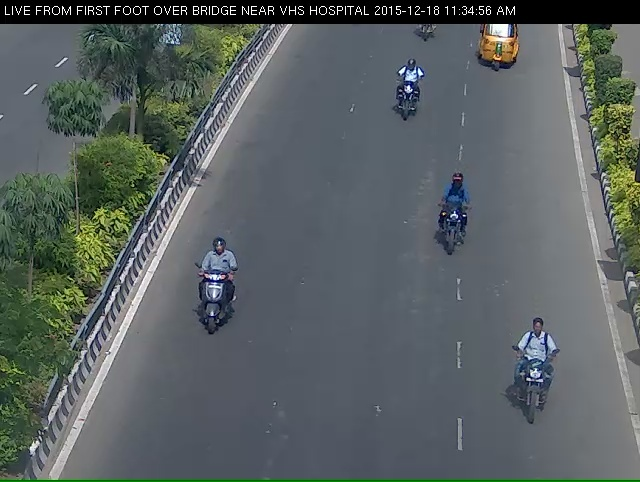Car: (477, 22, 523, 87)
Person: (506, 338, 581, 458), (186, 258, 229, 367), (432, 202, 475, 280), (386, 64, 428, 134)
